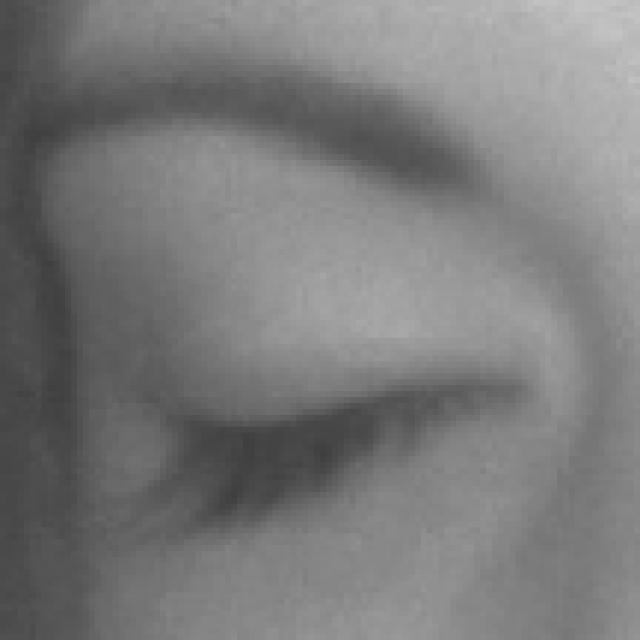Eyeclosed: (130, 243, 528, 640)
